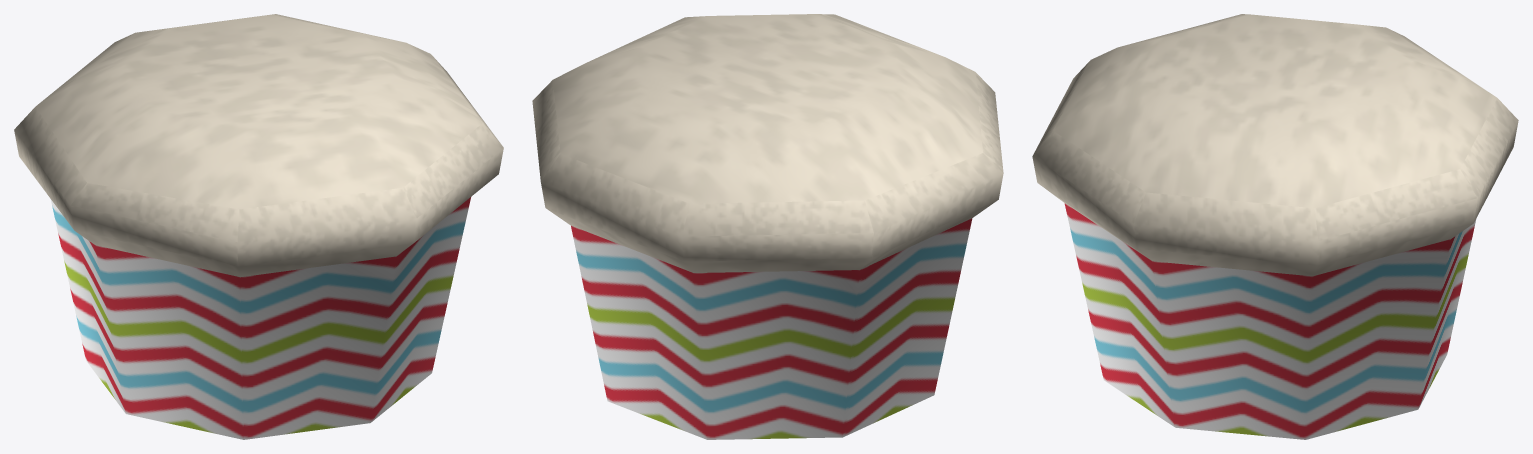
Rendered from Muffin_Plain_02.FBX.
The picture shows the model from 3 angles, left to right: view 1: azimuth 30°, elevation 25°; view 2: azimuth 150°, elevation 25°; view 3: azimuth 270°, elevation 25°; orthographic projection.
Visible parts, largest first — view 1: Muffin_B; view 2: Muffin_B; view 3: Muffin_B.
Boxes of the visible parts, box(x1,y1,x2,y2) form: Muffin_B: box(14, 14, 503, 439); Muffin_B: box(532, 14, 1003, 439); Muffin_B: box(1032, 14, 1518, 439).
Bounding box in the file's own units: 36.61 × 24.52 × 36.61.
